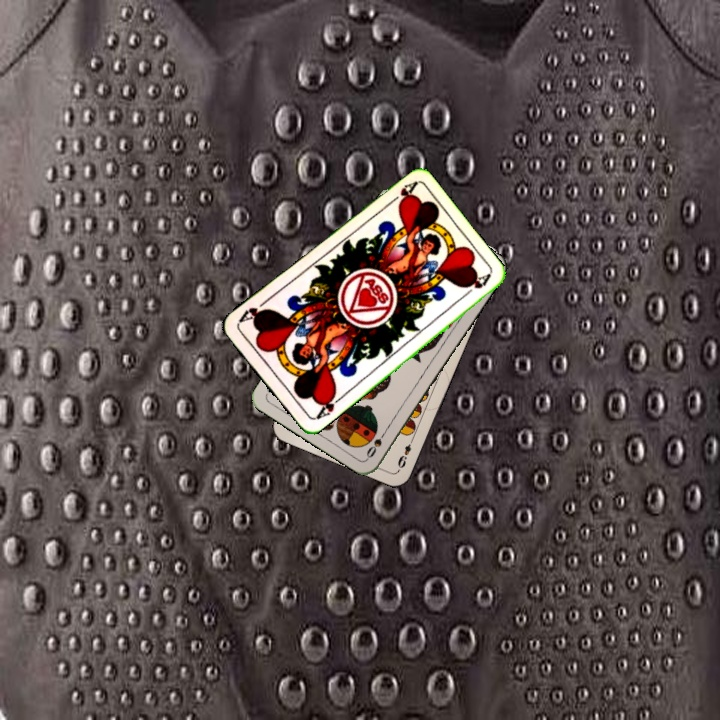E9: (394, 434, 416, 471)
HA: (311, 388, 346, 422), (383, 178, 419, 209)
SO: (362, 424, 390, 461)
